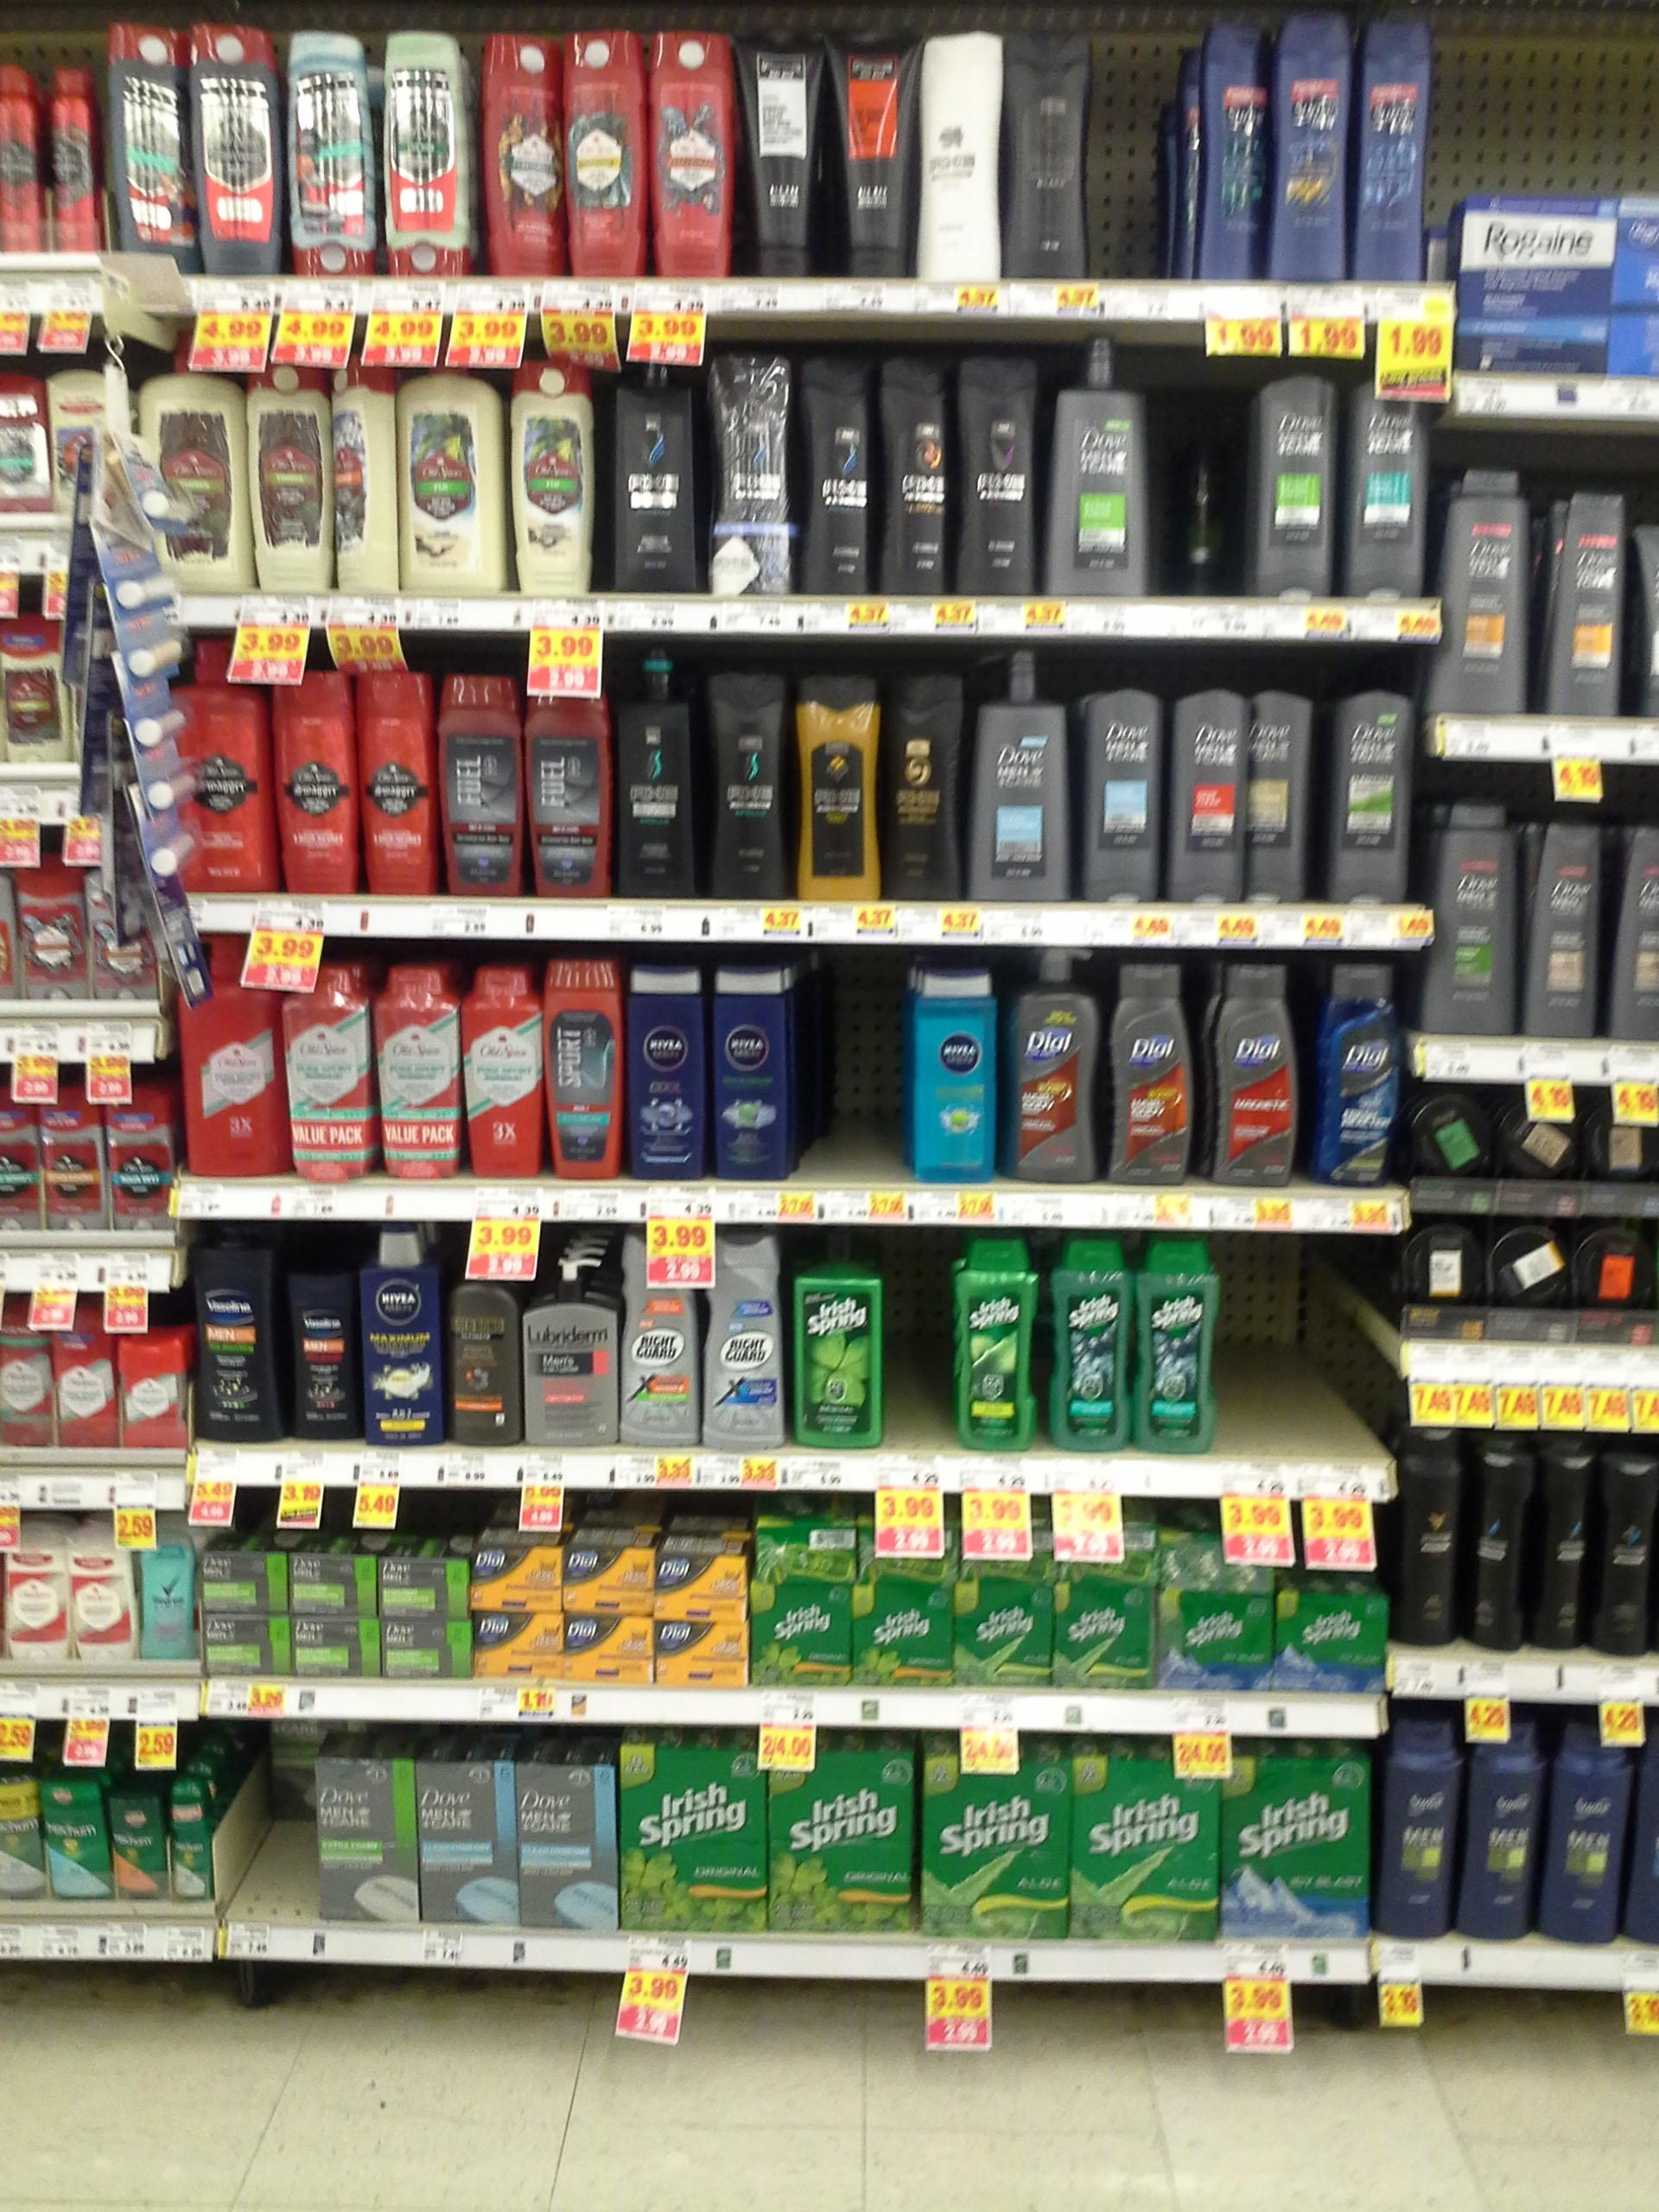empty: (812, 975, 901, 1181), (1094, 64, 1178, 282), (230, 1754, 310, 1935), (1209, 1273, 1281, 1447), (882, 1270, 951, 1444), (1293, 1275, 1363, 1449)
